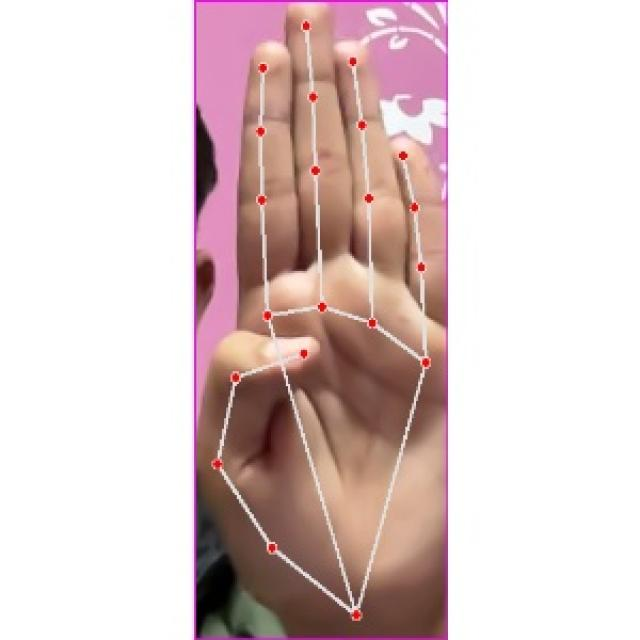B: (193, 1, 448, 640)
